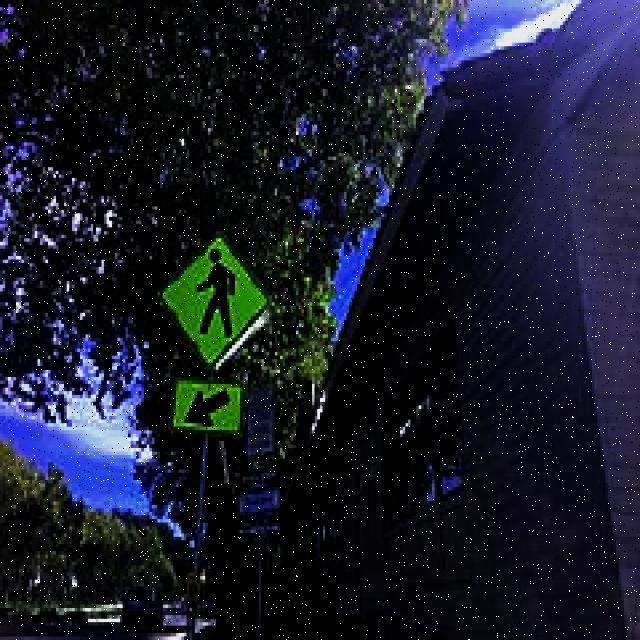Traffic sign: (158, 231, 278, 438)
